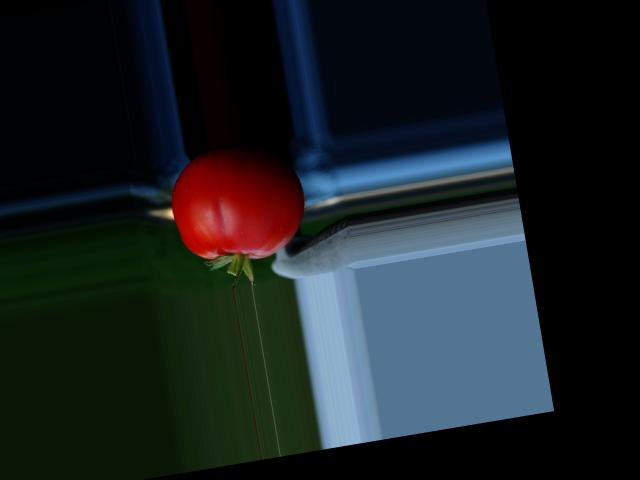tomato: (163, 135, 312, 271)
